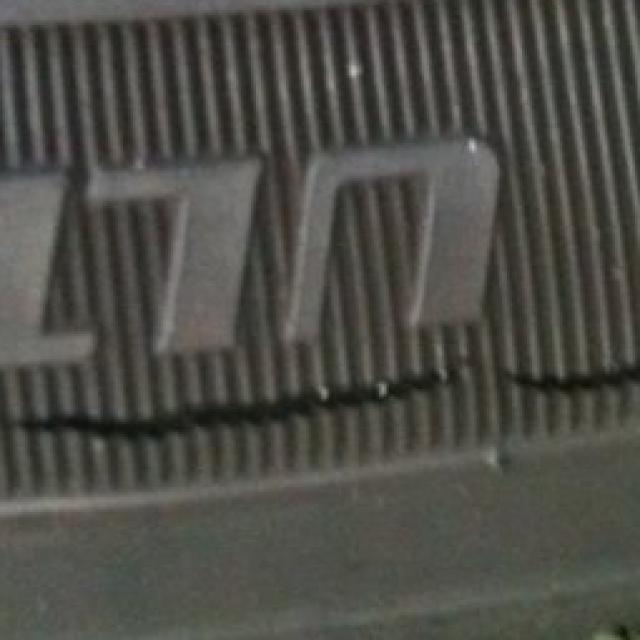Cracks: (1, 344, 640, 454)
